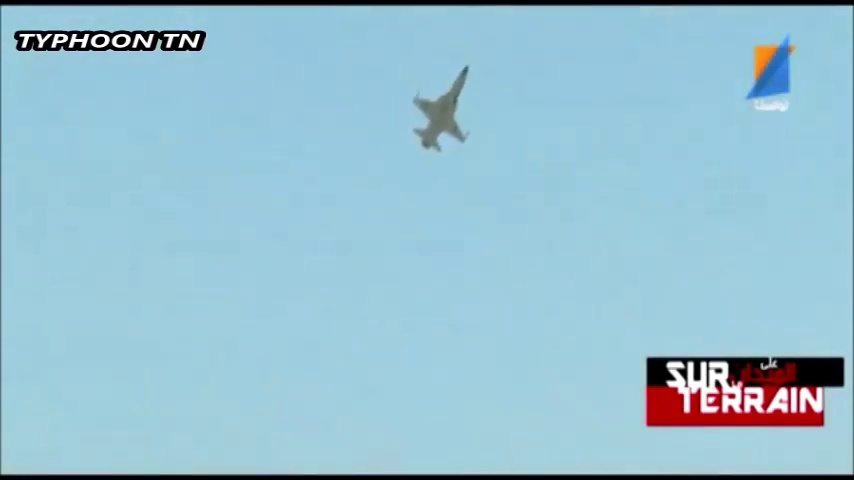Airplane: (409, 63, 474, 154)
